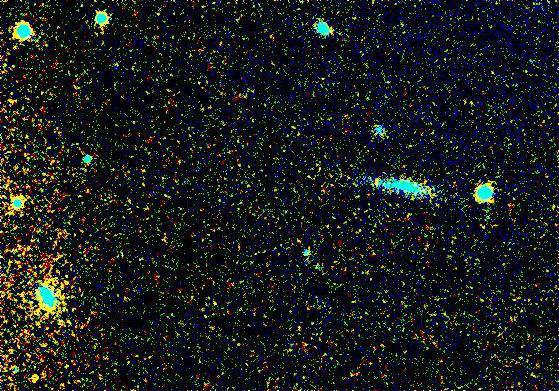star: (21, 362, 51, 391)
